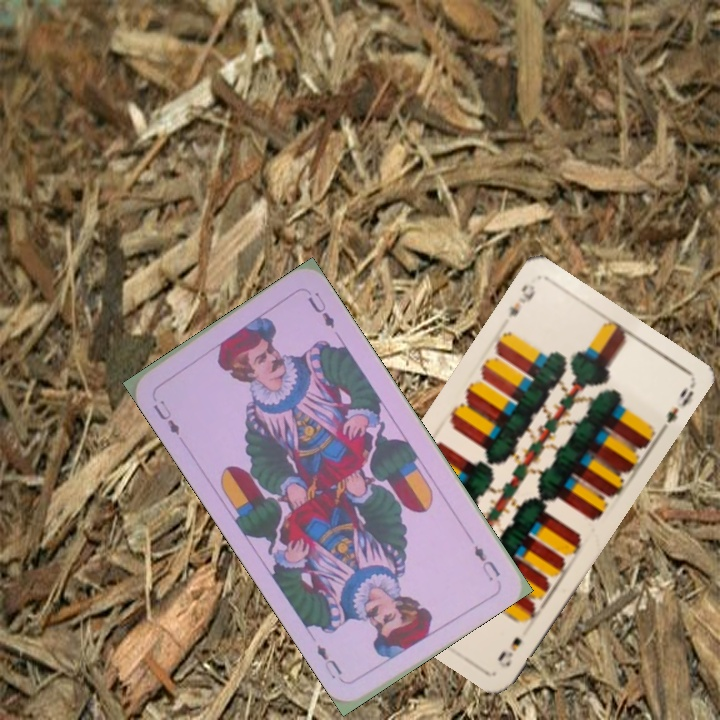E9: (504, 279, 538, 321), (493, 632, 525, 670)
EU: (149, 395, 183, 438), (470, 541, 503, 583)
